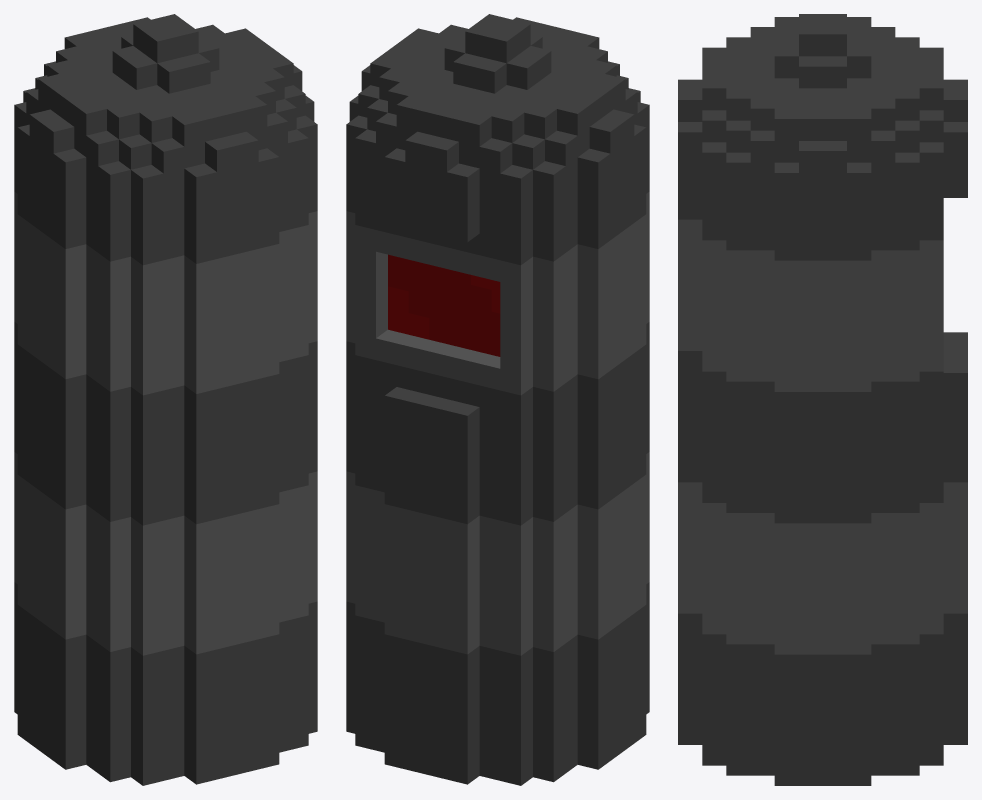
Rendered from speed_trap.gltf.
The picture shows the model from 3 angles, left to right: view 1: azimuth 30°, elevation 25°; view 2: azimuth 150°, elevation 25°; view 3: azimuth 270°, elevation 25°; orthographic projection.
Parts seen in each view (by area): view 1: Layer.1; view 2: Layer.1; view 3: Layer.1.
Part boxes in pixels (x1,y1,x2,y2): Layer.1: (14, 14, 317, 785); Layer.1: (346, 14, 649, 785); Layer.1: (678, 14, 967, 785).
Bounding box in the file's own units: 12 × 32 × 12.
Materials: 1 (1 with a texture image).
